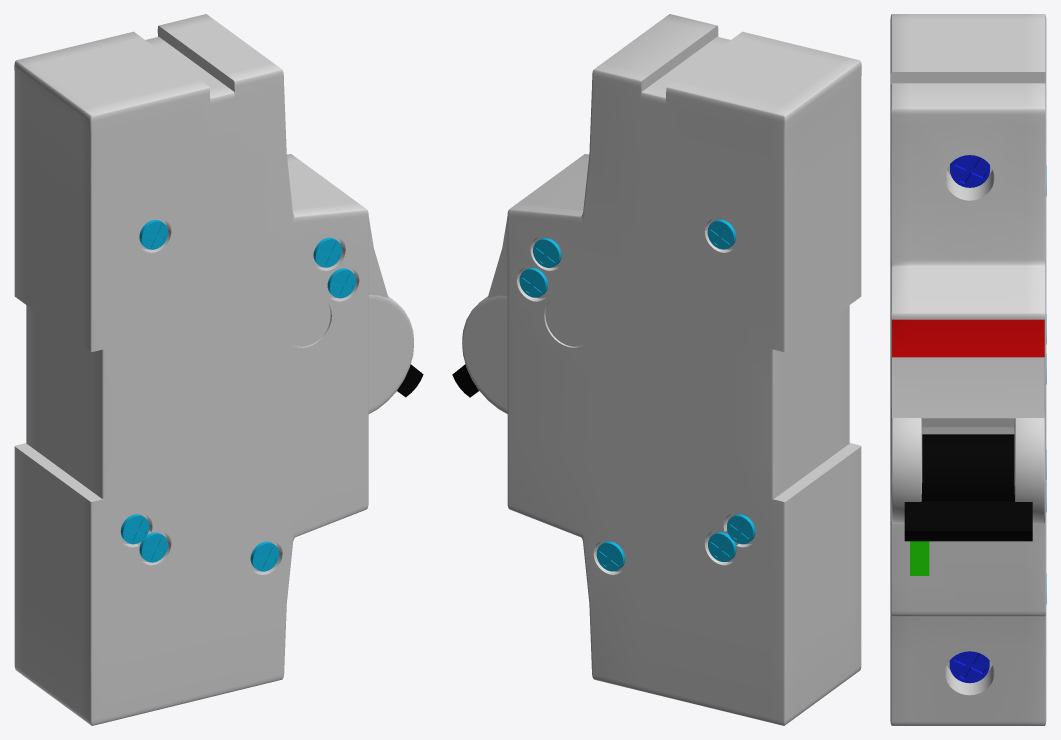
Rendered from Sicherung.fbx.
3 renders of one model, left to right at view 1: azimuth 30°, elevation 25°; view 2: azimuth 150°, elevation 25°; view 3: azimuth 270°, elevation 25°, orthographic.
Parts seen in each view (by area): view 1: Cube.055, Cylinder.059, Cylinder.054, Cylinder.056, Cylinder.058, Cylinder.057, Cylinder.055; view 2: Cube.055, Cylinder.063, Cylinder.061, Cylinder.060, Cylinder.065, Cylinder.064, Cylinder.062; view 3: Cube.055, Cylinder.068, Cylinder.066, Cylinder.067.
Part boxes in pixels (bbox=[...]): Cube.055: bbox=[14, 14, 413, 725]; Cylinder.059: bbox=[327, 268, 356, 298]; Cylinder.054: bbox=[250, 541, 279, 571]; Cylinder.056: bbox=[139, 532, 168, 562]; Cylinder.058: bbox=[313, 237, 342, 267]; Cylinder.057: bbox=[139, 219, 168, 249]; Cylinder.055: bbox=[120, 514, 149, 544]; Cube.055: bbox=[462, 14, 861, 725]; Cylinder.063: bbox=[707, 219, 736, 249]; Cylinder.061: bbox=[727, 514, 755, 544]; Cylinder.060: bbox=[596, 541, 625, 571]; Cylinder.065: bbox=[519, 267, 548, 297]; Cylinder.064: bbox=[533, 238, 561, 267]; Cylinder.062: bbox=[708, 532, 736, 561]; Cube.055: bbox=[890, 14, 1046, 725]; Cylinder.068: bbox=[904, 434, 1032, 541]; Cylinder.066: bbox=[950, 155, 989, 187]; Cylinder.067: bbox=[949, 651, 989, 683].
Size of the model in its own units: 8.01 by 13.76 by 3.15.
